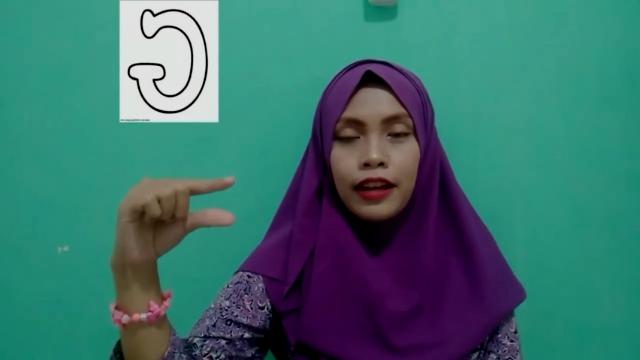G: (105, 173, 241, 268)
